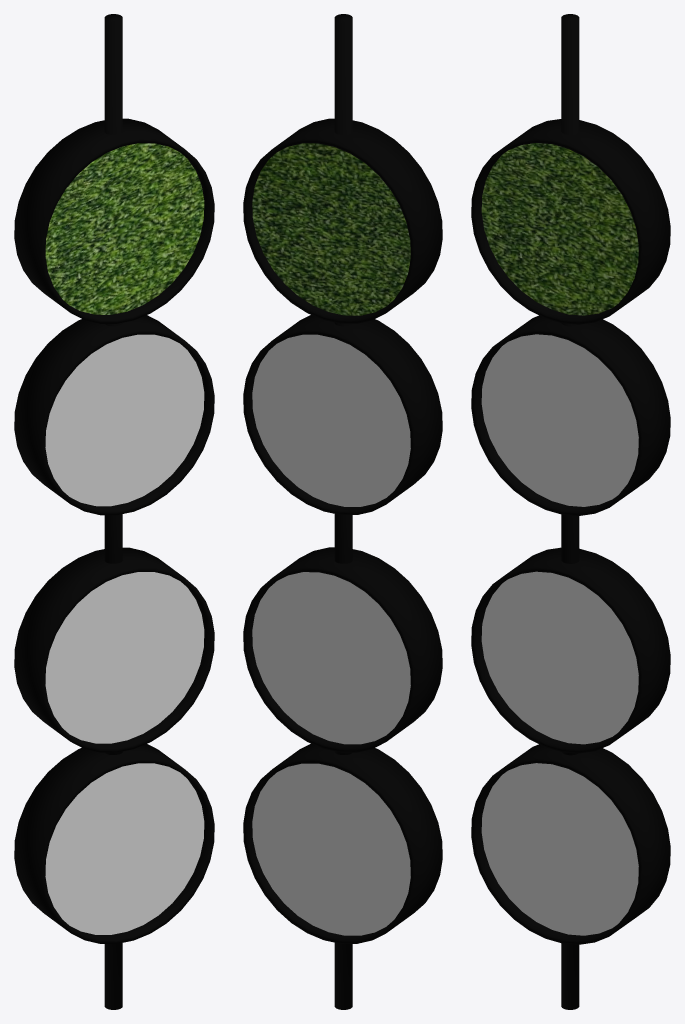
Rendered from AdornoCircular.fbx.
The picture shows the model from 3 angles, left to right: view 1: azimuth 30°, elevation 25°; view 2: azimuth 150°, elevation 25°; view 3: azimuth 330°, elevation 25°; orthographic projection.
Visible parts, largest first — view 1: Body.002; view 2: Body.002; view 3: Body.002.
Boxes of the visible parts, x1=… form: Body.002: x1=14, y1=14, x2=214, y2=1009; Body.002: x1=243, y1=14, x2=442, y2=1009; Body.002: x1=471, y1=14, x2=670, y2=1009.
Bounding box in the file's own units: 55.01 × 300 × 15.52.
